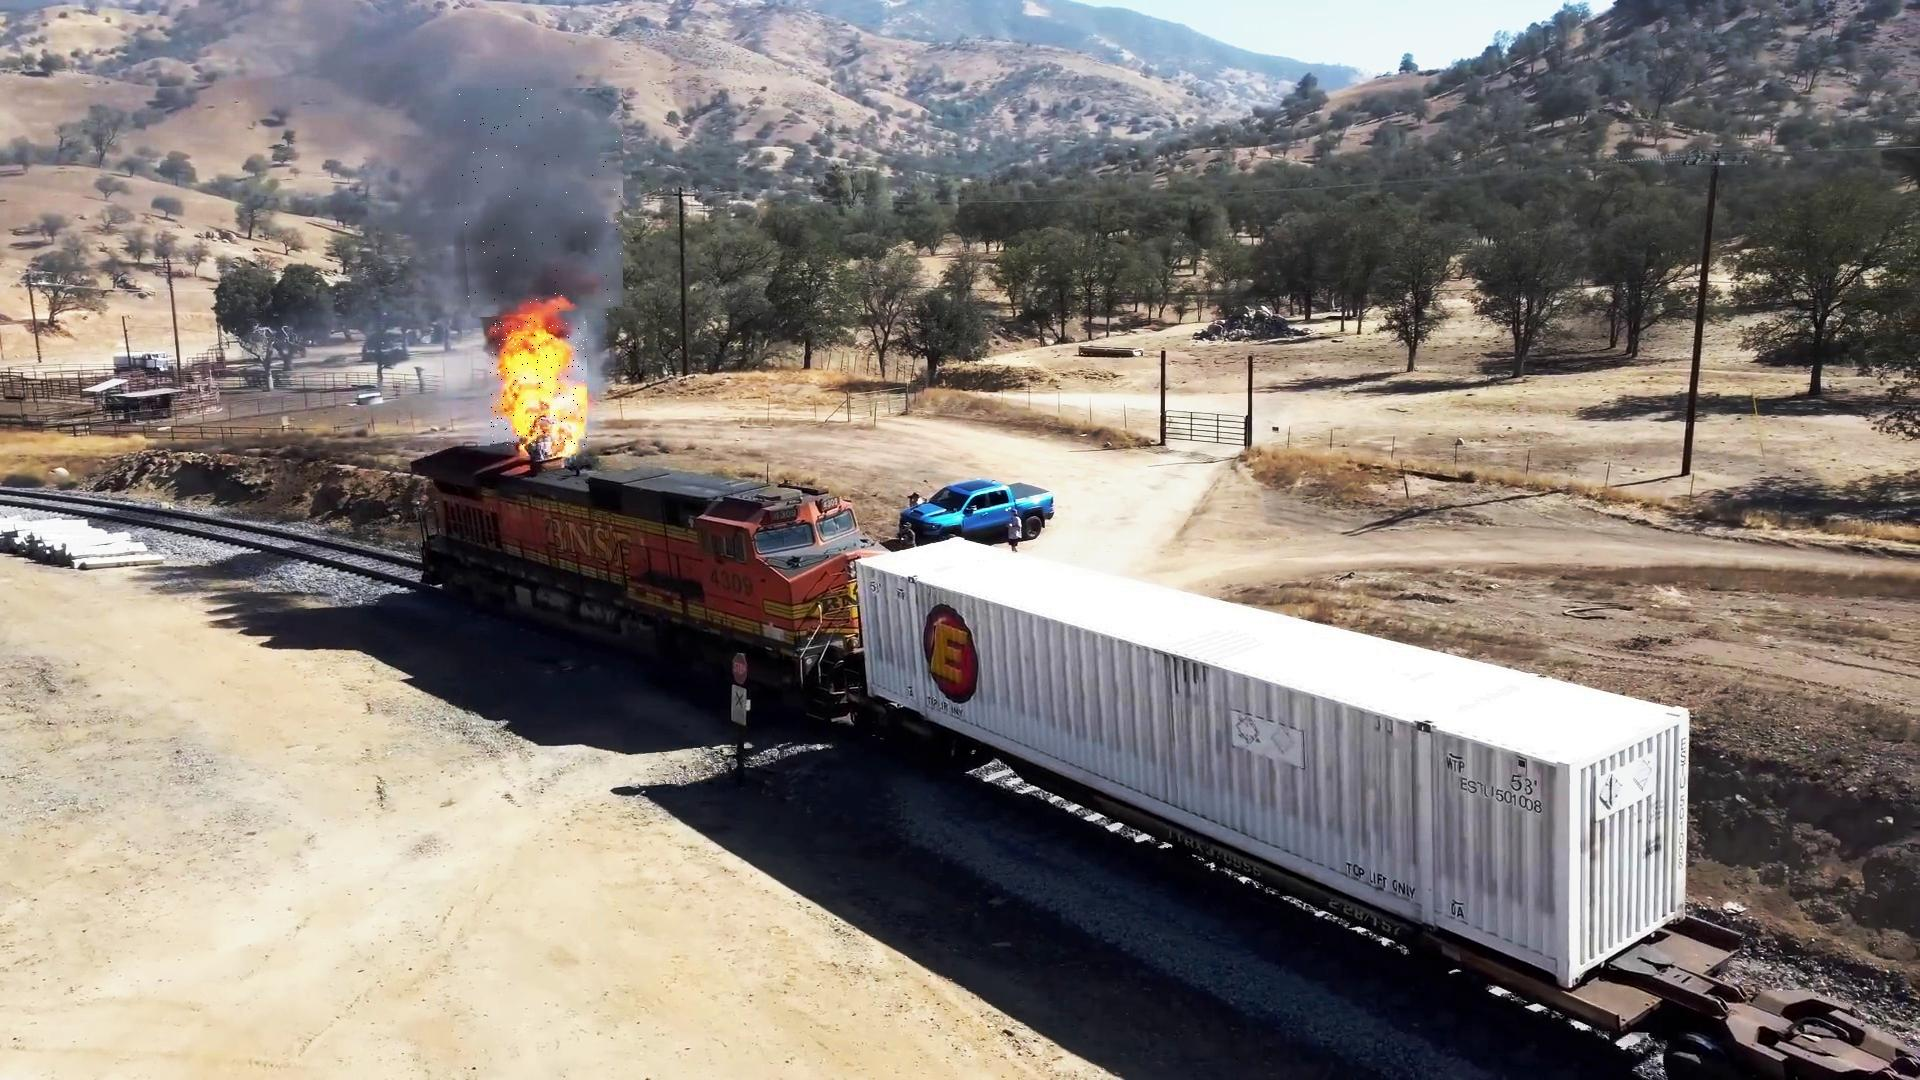fire: (491, 306, 587, 448)
smoke: (455, 88, 626, 320)
